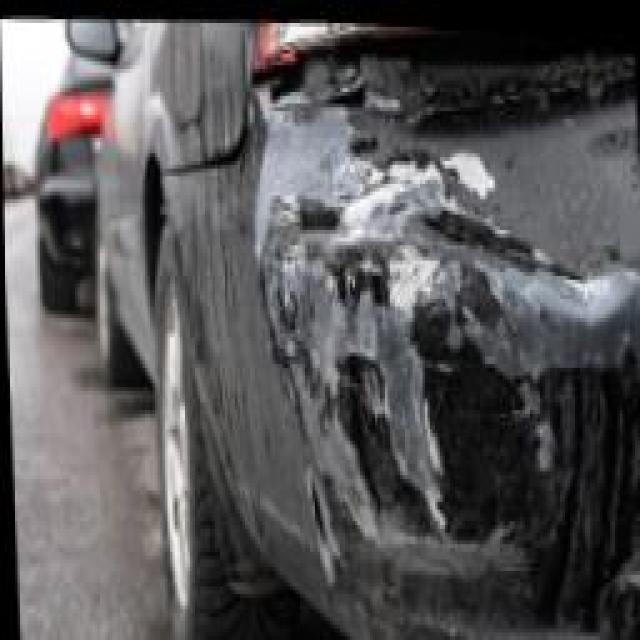Bumper: (230, 123, 615, 640)
